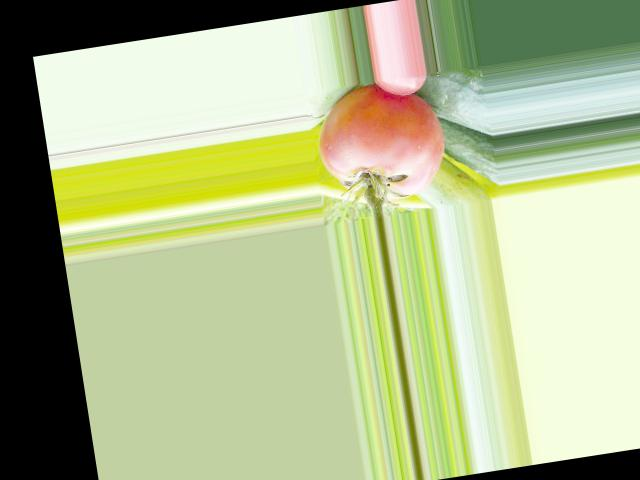tomato: (311, 74, 451, 207)
